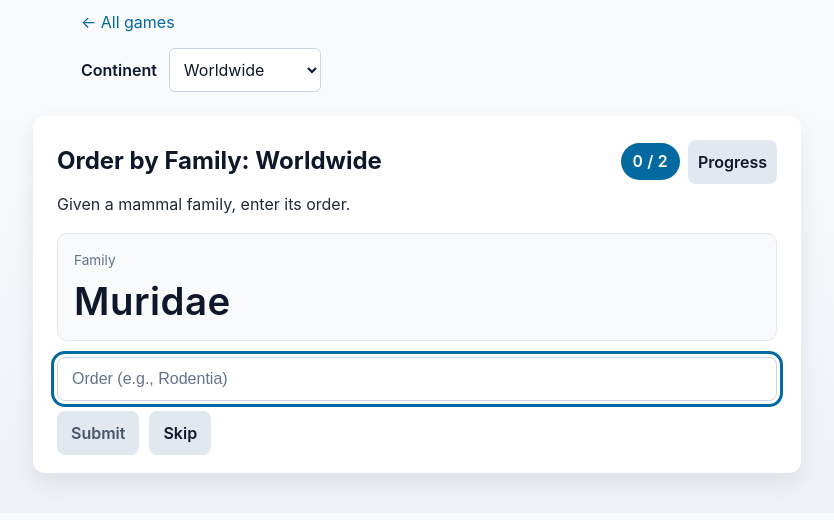
Test: empty continent shows an empty state without recording a zero-question victory
Select "Antarctica" in the dropdown labelled "Continent" at (245, 70), box [169,48,321,92]
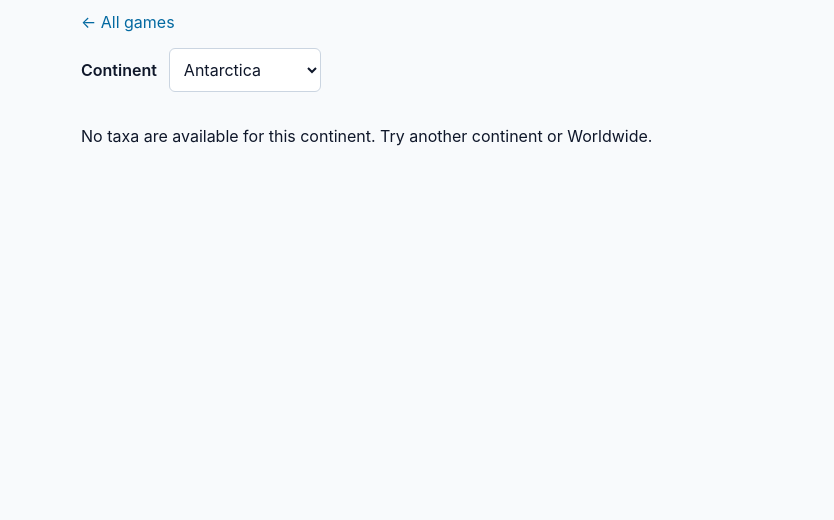
Expected: the text "No taxa are available for this continent. Try another continent or Worldwide." is shown, [81,126,652,146]
